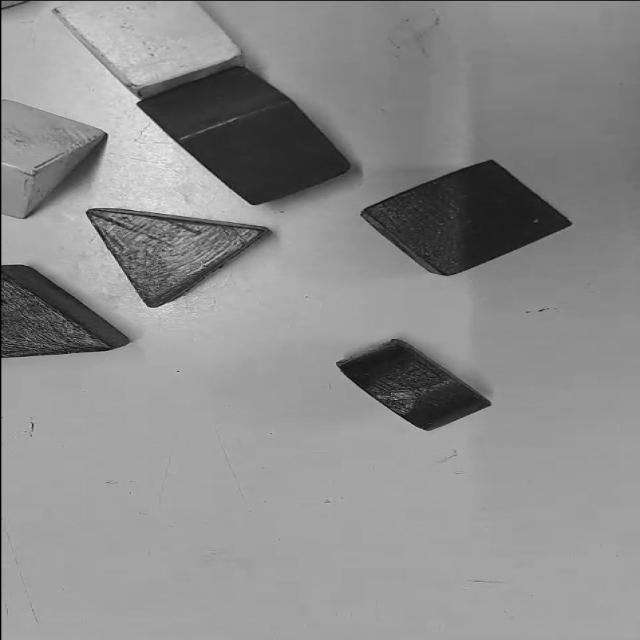bcircle: (335, 339, 487, 430)
bcube: (363, 162, 568, 276)
btriangle: (1, 266, 134, 358)
rcube: (136, 68, 352, 205)
rtriangle: (86, 208, 272, 308)
ycube: (51, 2, 246, 98), (131, 62, 240, 100)
ytriangle: (2, 100, 108, 218)
